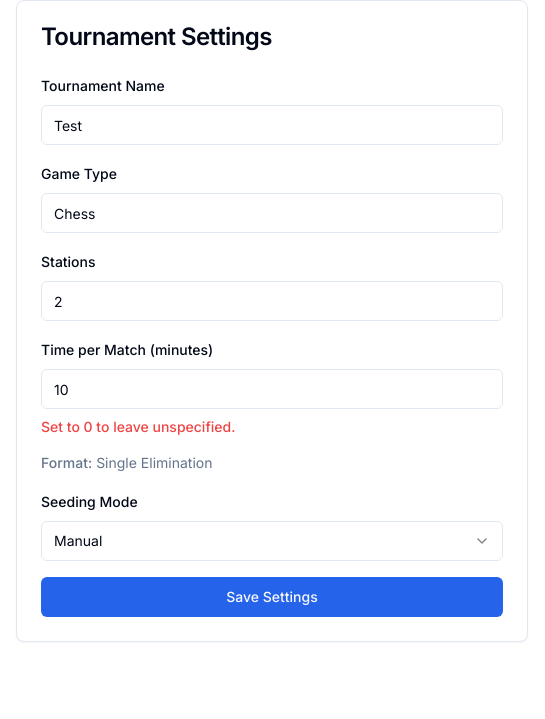
Test case: TournamentSettingsForm › shows error on failed save
Replace the text in the field labelled "Tournament Name" with "X" at (272, 125), box [41, 105, 503, 145]
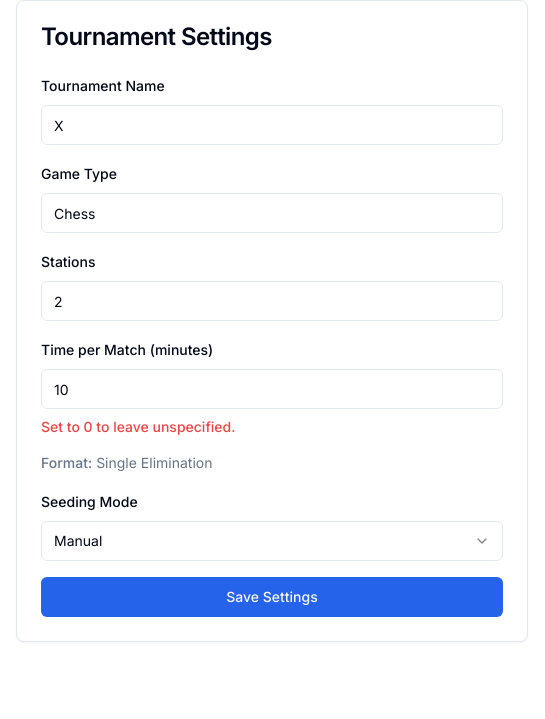
Click the button "Save Settings" at (272, 597), box [41, 577, 503, 617]
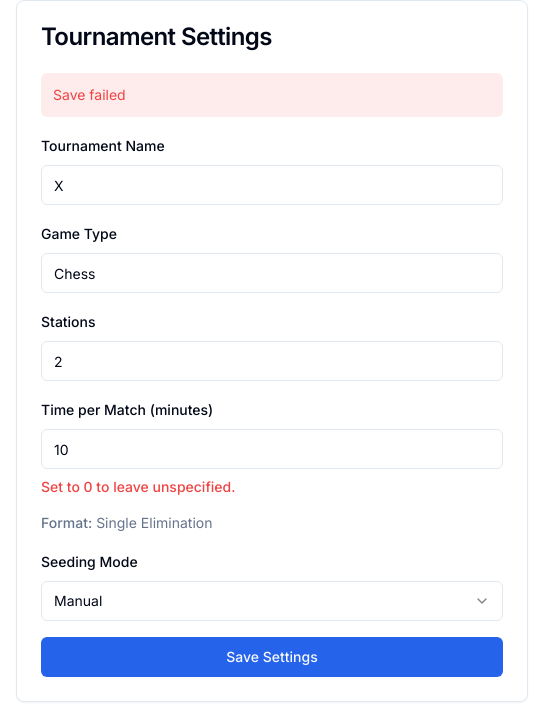
Result: the text "Save failed" is shown at [41, 73, 503, 117]
